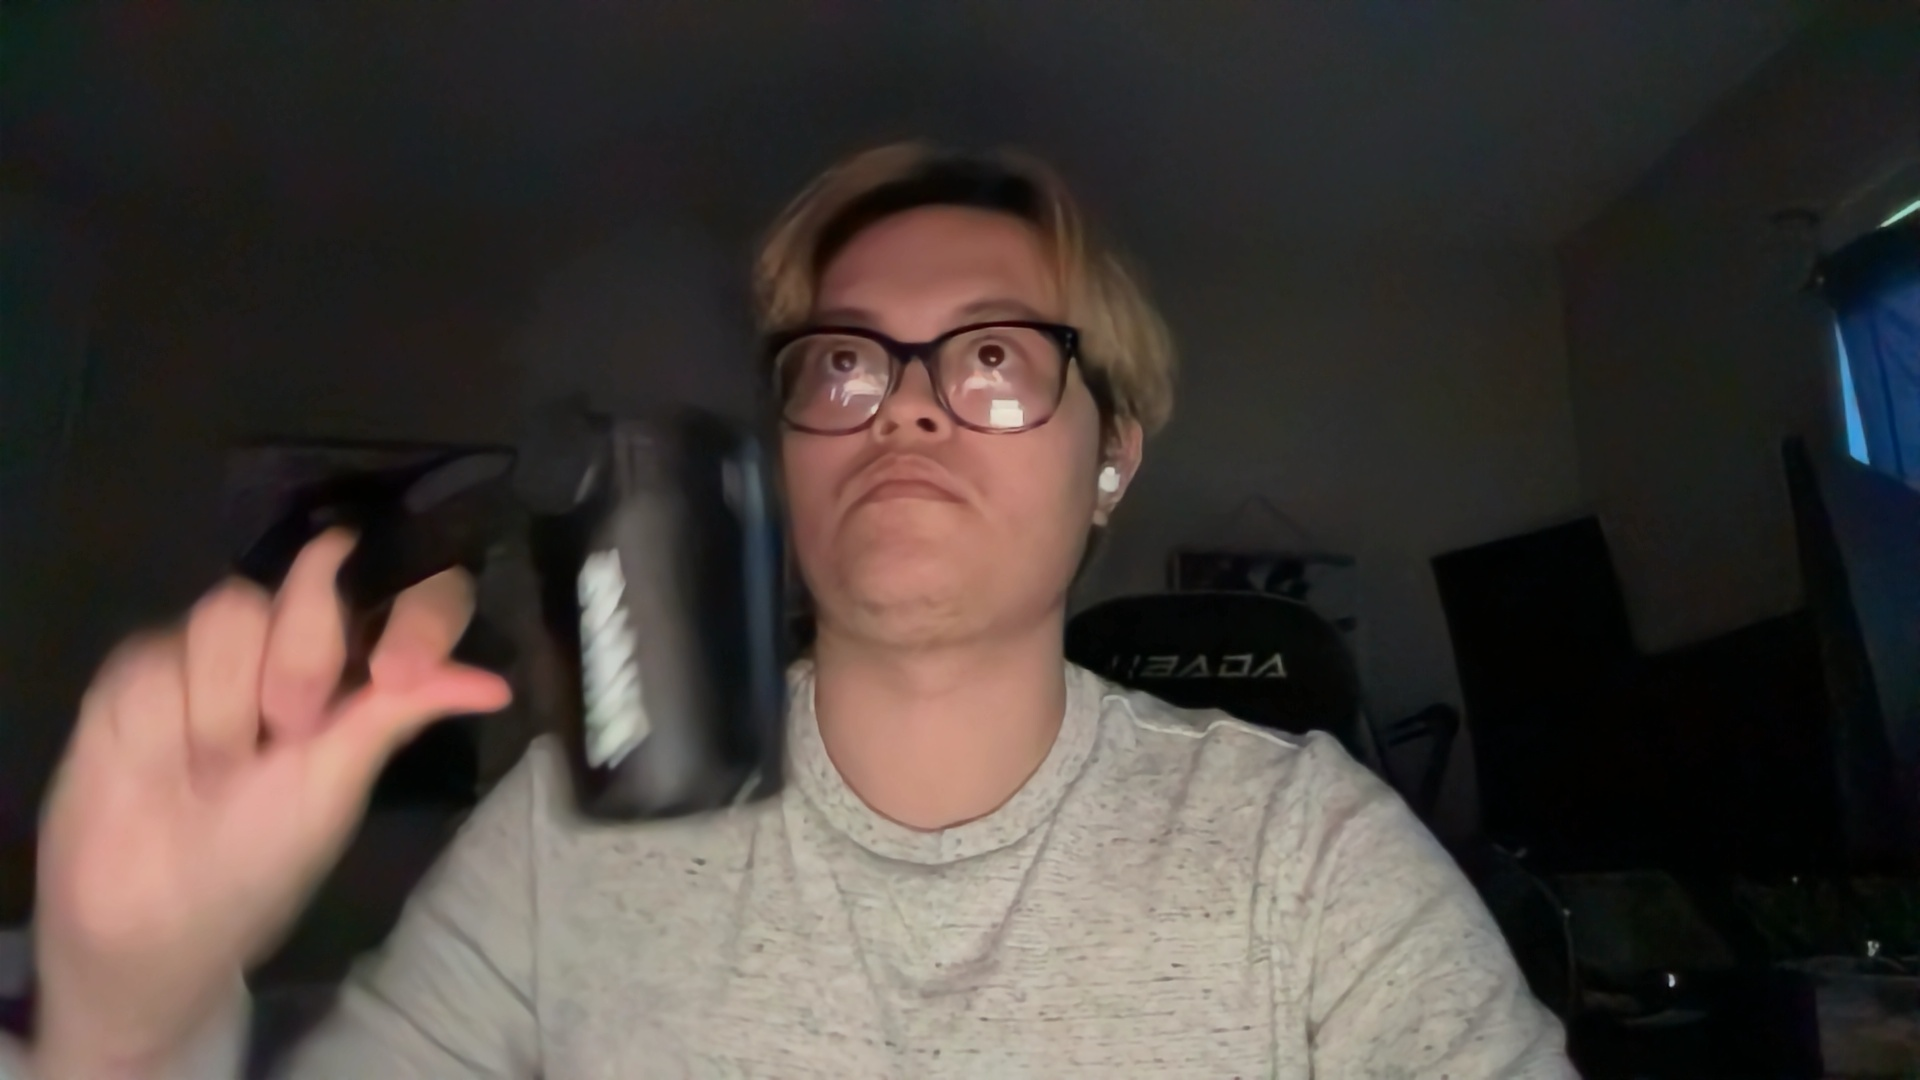microphone: (410, 214, 785, 837)
